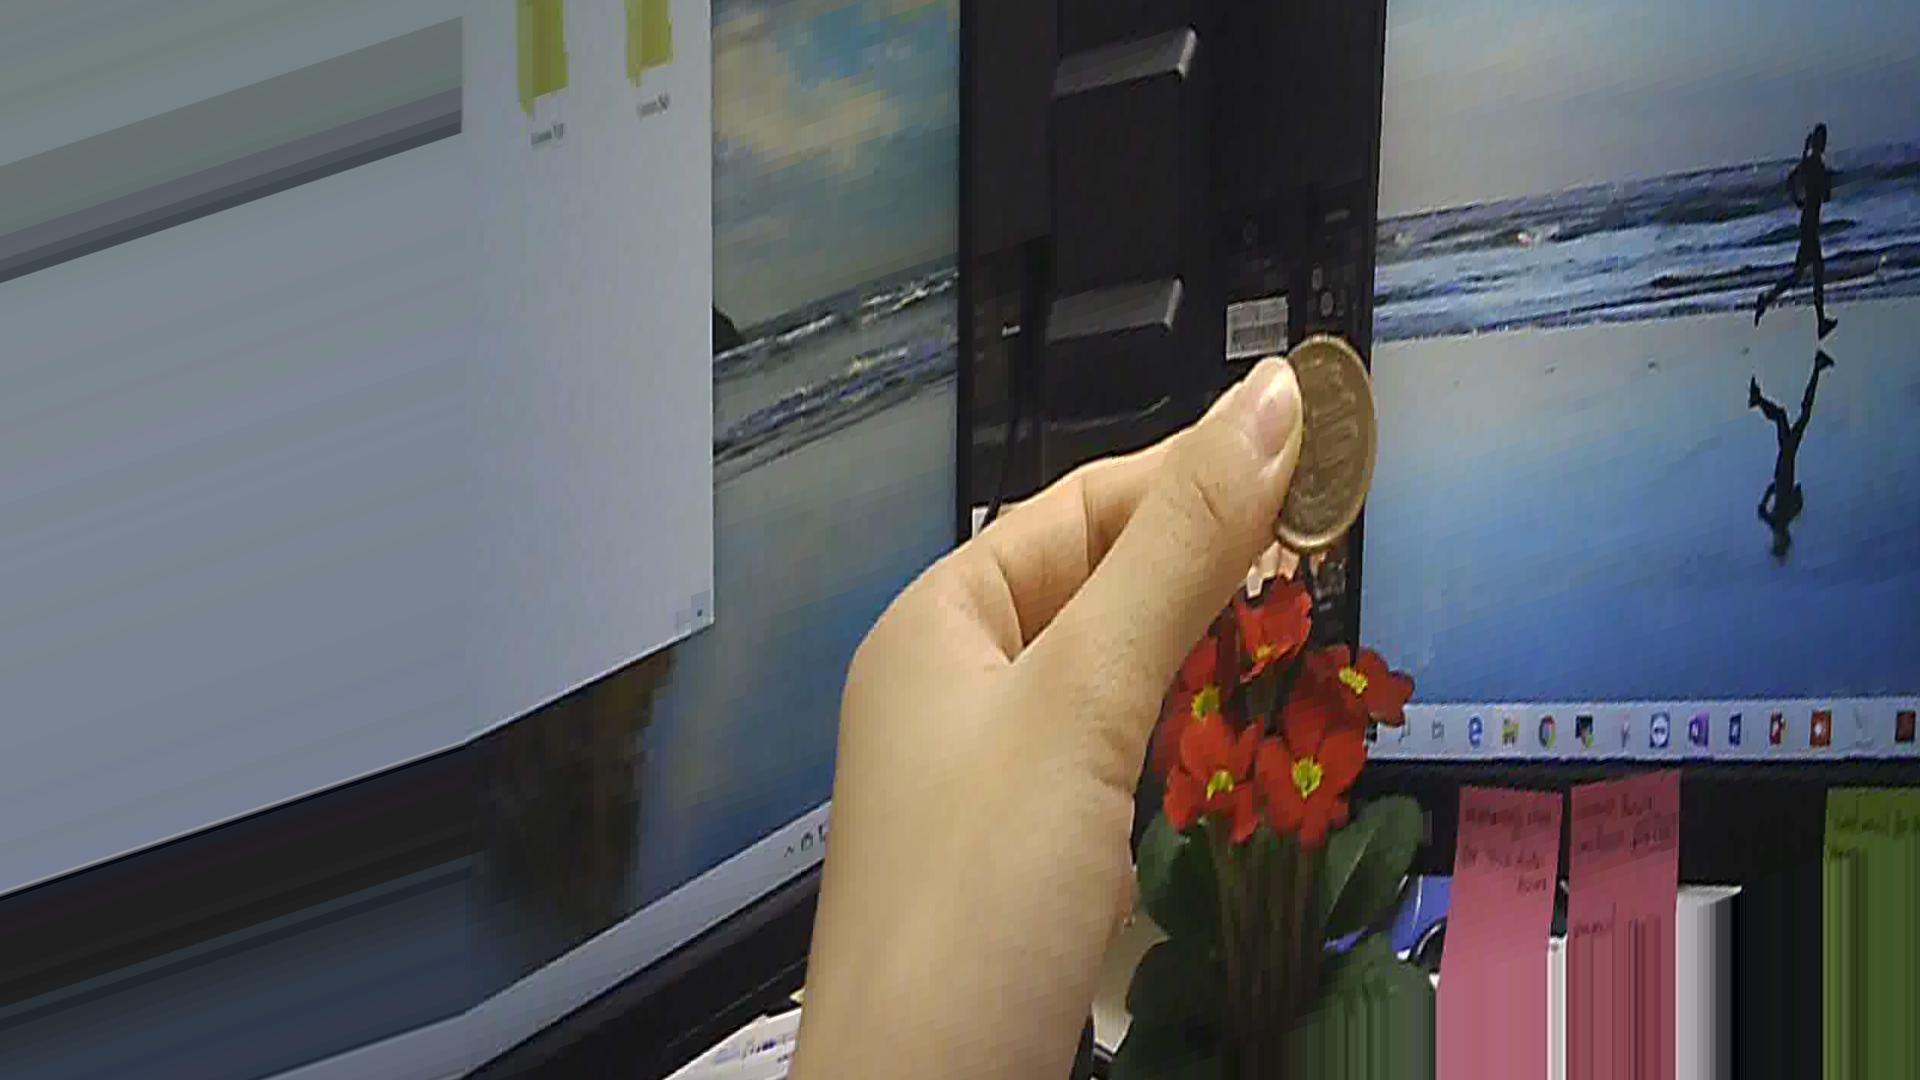10 Yen: (1257, 330, 1389, 547)
